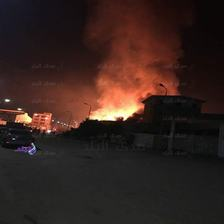fire: (89, 37, 148, 124)
